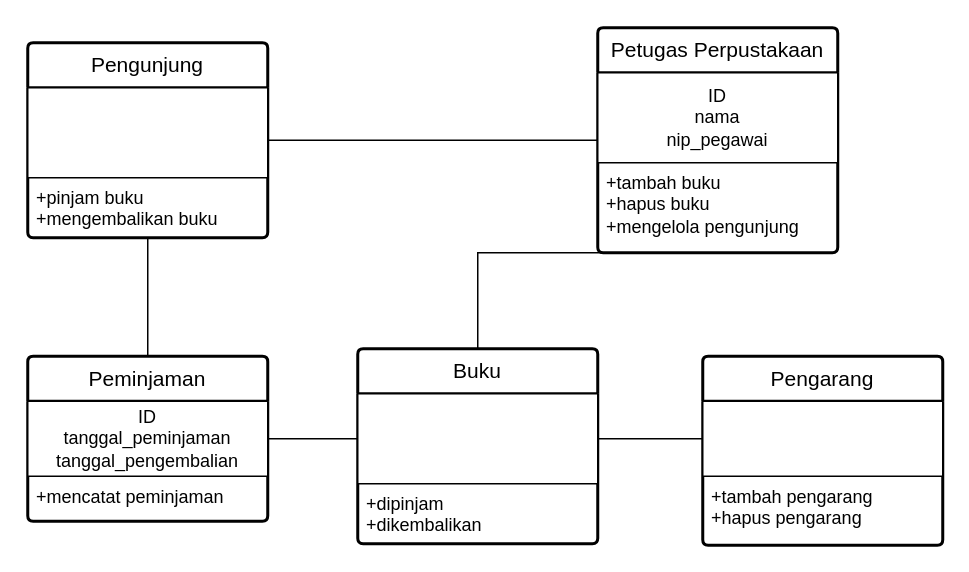
Some shapes in this 969 by 572 pixel diagram are drawn without their labels. The box of each missing label's shape, as (x1, y1, x2, y2) in pixels:
ID ID_buku nama: (701, 400, 943, 476)
ID judul tahun terbit: (356, 392, 598, 484)
ID nama address phone_number: (26, 86, 268, 178)
